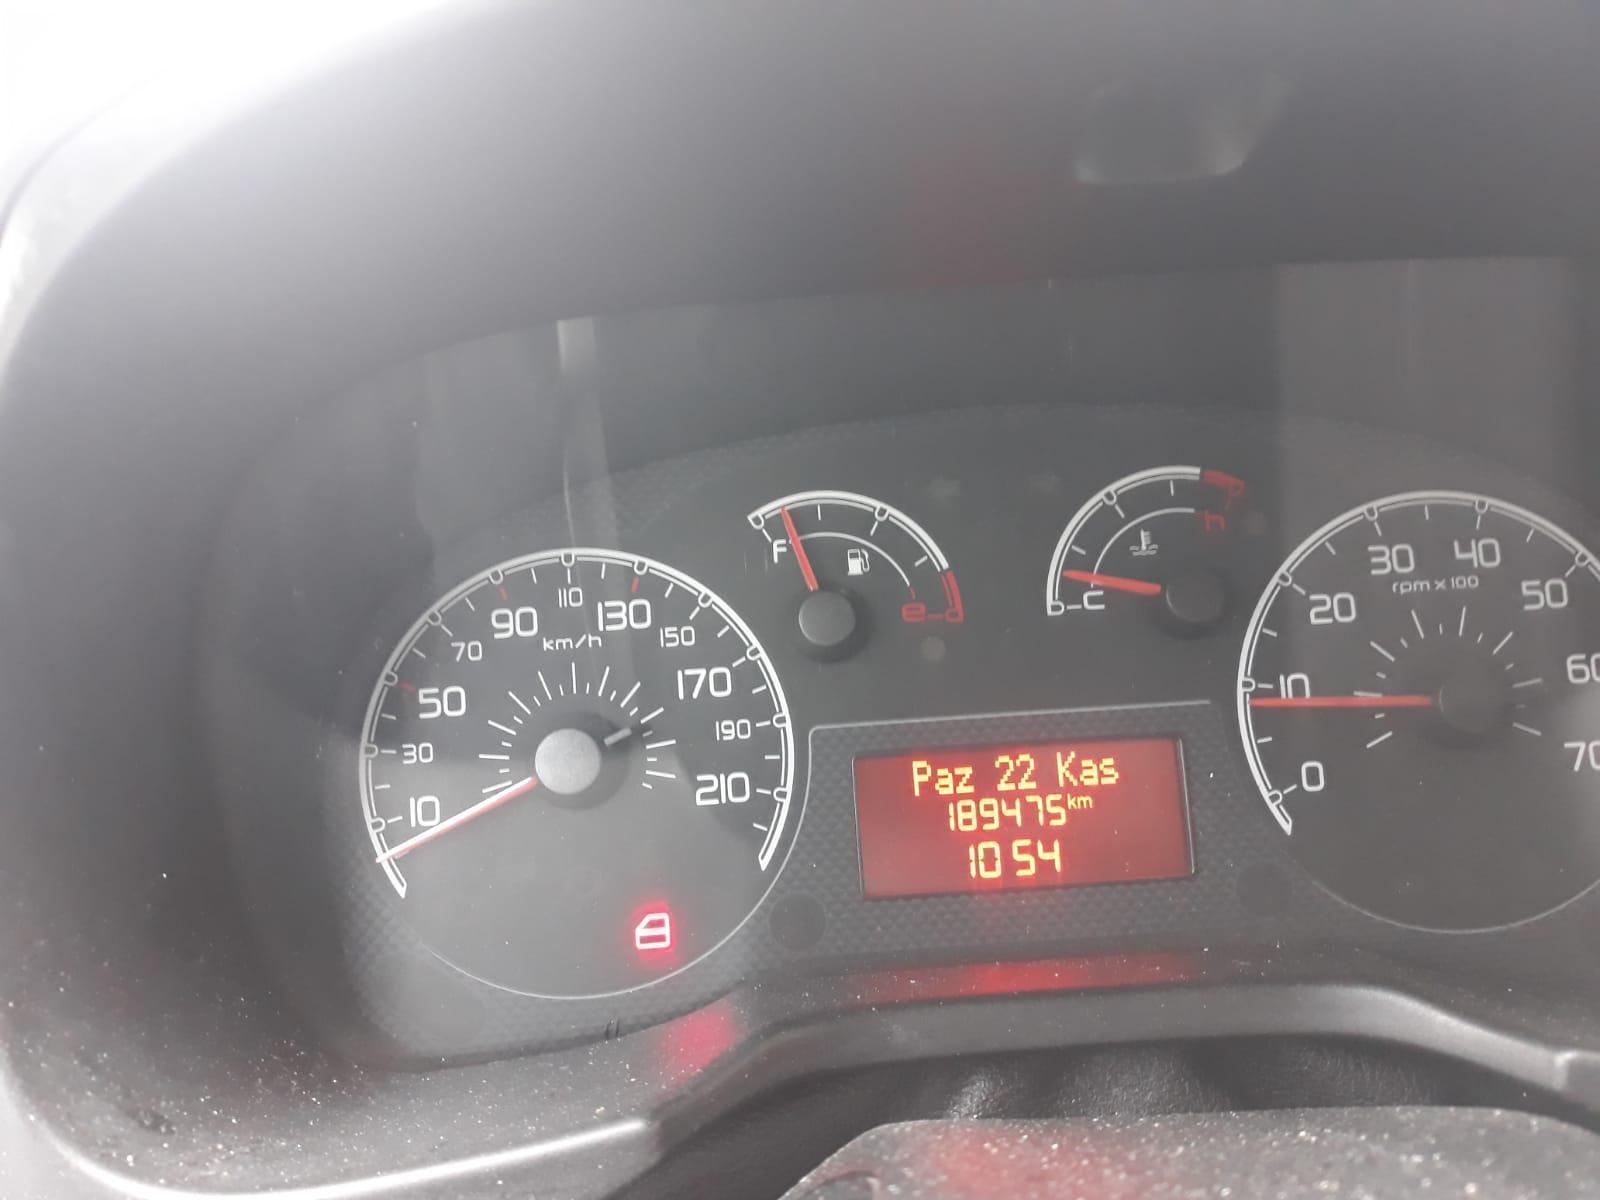0: (976, 839, 1002, 879)
1: (968, 843, 976, 879), (947, 800, 955, 832)
2: (991, 754, 1015, 792), (1015, 753, 1037, 790)
4: (1036, 837, 1061, 872), (1000, 797, 1022, 827)
5: (1010, 838, 1036, 879), (1044, 793, 1066, 826)
7: (1023, 794, 1044, 824)
8: (956, 798, 976, 832)
9: (978, 795, 999, 831)
X: (1054, 750, 1078, 788), (910, 759, 932, 798), (952, 765, 975, 794), (934, 766, 954, 795), (1078, 758, 1099, 787), (1099, 758, 1119, 785), (1075, 795, 1094, 809), (1066, 792, 1078, 811)
odometer: (847, 730, 1197, 901)
